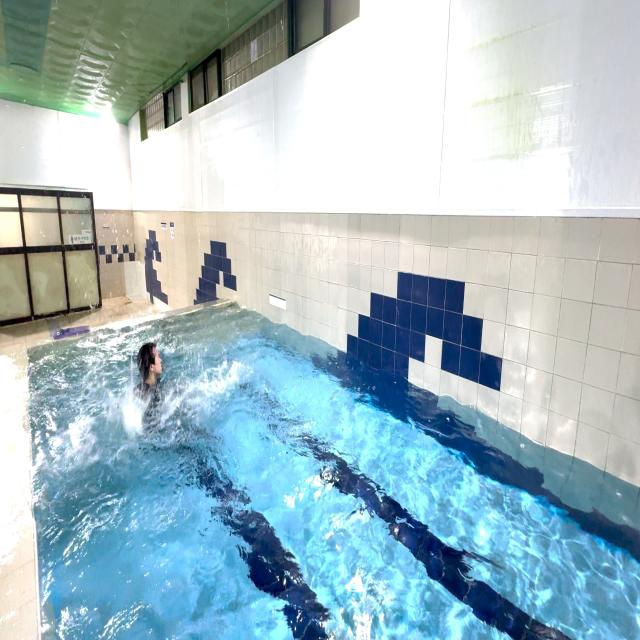Swimming: (118, 325, 194, 435)
